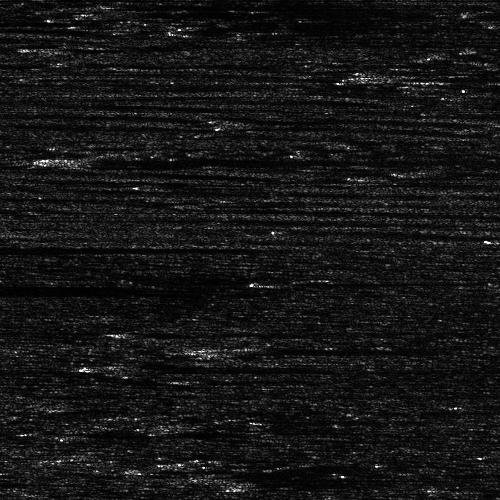object: (210, 61, 500, 90), (49, 0, 174, 10), (189, 468, 262, 485), (179, 342, 262, 355), (32, 152, 115, 163), (65, 362, 158, 371), (253, 278, 306, 283), (101, 330, 154, 335), (182, 375, 193, 388)
shadow: (0, 278, 222, 297), (73, 152, 430, 163), (372, 61, 500, 90), (111, 0, 408, 10), (220, 342, 446, 355), (226, 468, 380, 485), (0, 237, 128, 254), (111, 362, 258, 371), (0, 8, 44, 37), (188, 375, 263, 388), (128, 330, 274, 335), (0, 246, 200, 249), (279, 278, 354, 283)
